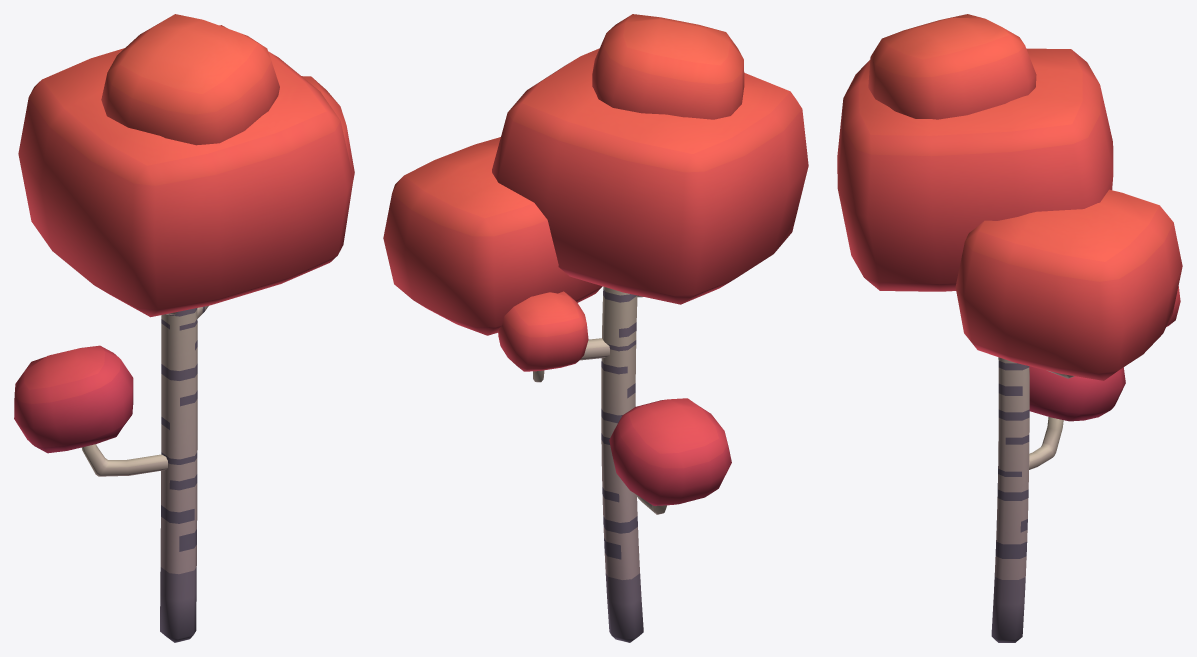
File: cube_tree.fbx
3 views of the same model, side by side, from view 1: azimuth 30°, elevation 25°; view 2: azimuth 150°, elevation 25°; view 3: azimuth 270°, elevation 25° (orthographic). The views are drawn at different scales.
Parts seen in each view (by area): view 1: birch_tree_SC_free; view 2: birch_tree_SC_free; view 3: birch_tree_SC_free.
Boxes of the visible parts, x1,y1,x2,y2 form: birch_tree_SC_free: (14, 14, 354, 642); birch_tree_SC_free: (383, 14, 808, 642); birch_tree_SC_free: (837, 14, 1182, 642).
Size of the model in its own units: 526 by 937 by 483.
1 material, 1 textured.
